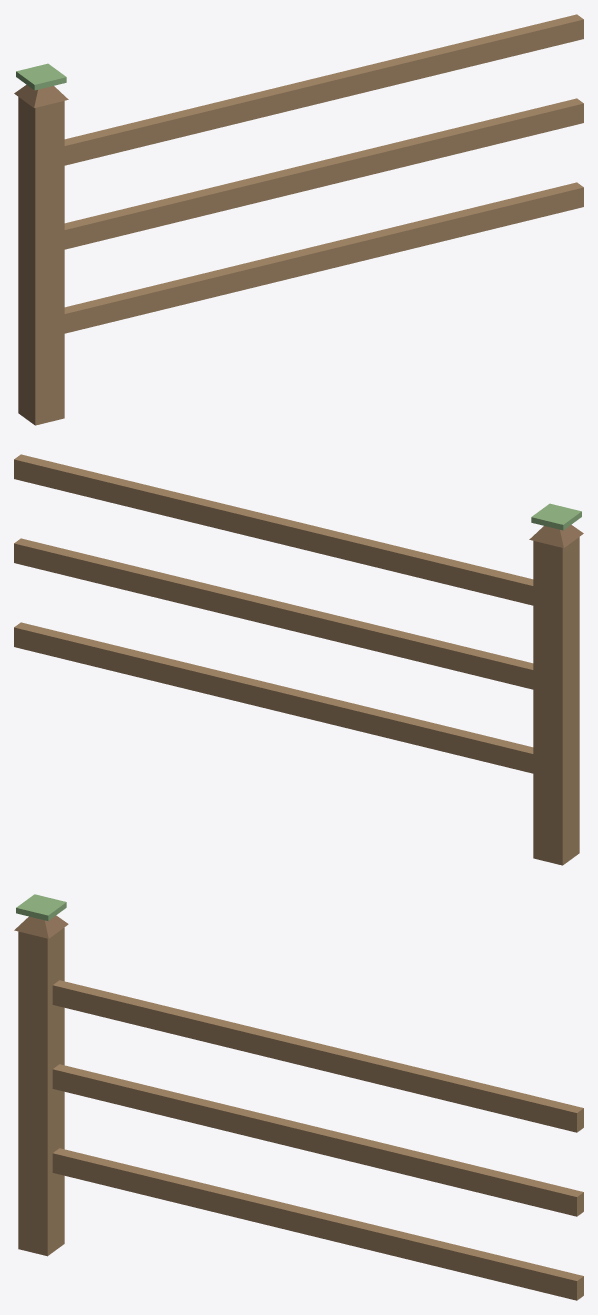
Rendered from hearthvale_fence.glb.
3 views of the same model, one above another, from view 1: azimuth 30°, elevation 25°; view 2: azimuth 150°, elevation 25°; view 3: azimuth 330°, elevation 25° (orthographic).
Visible parts, largest first — view 1: hv_fence_segment; view 2: hv_fence_segment; view 3: hv_fence_segment.
Part boxes in pixels (<box>): hv_fence_segment: <box>14,14,583,425</box>; hv_fence_segment: <box>14,454,583,865</box>; hv_fence_segment: <box>14,894,583,1300</box>.
Bounding box in the file's own units: 2.08 × 1.22 × 0.13.
